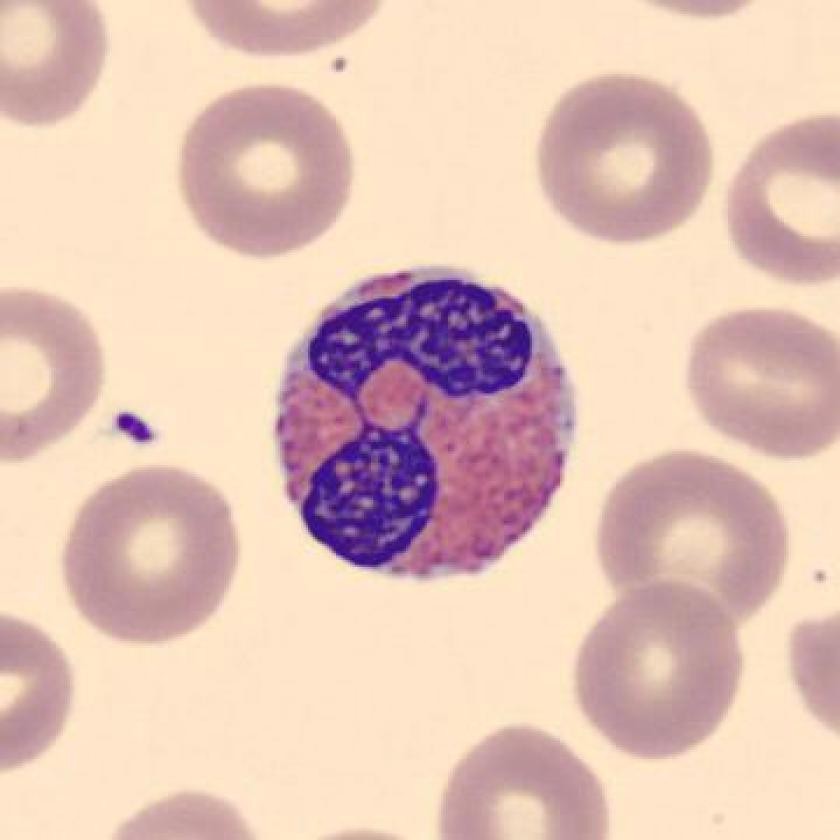eosinophil: (256, 251, 599, 589)
